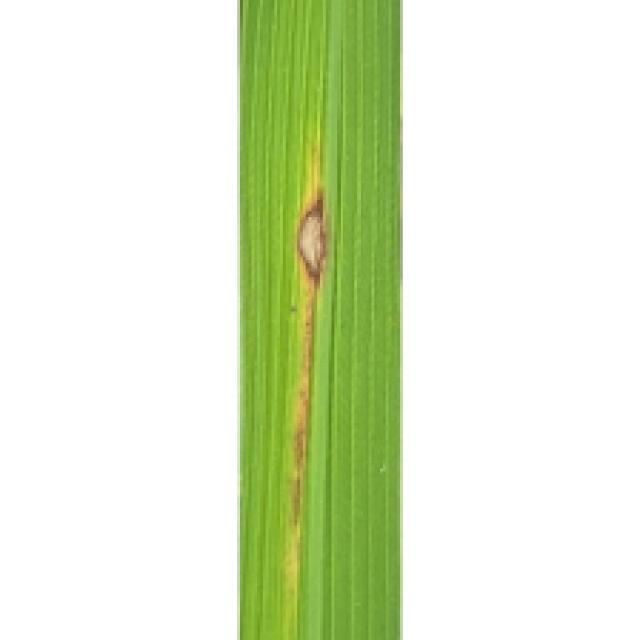Rice___Rice_Blast: (239, 0, 405, 637)
